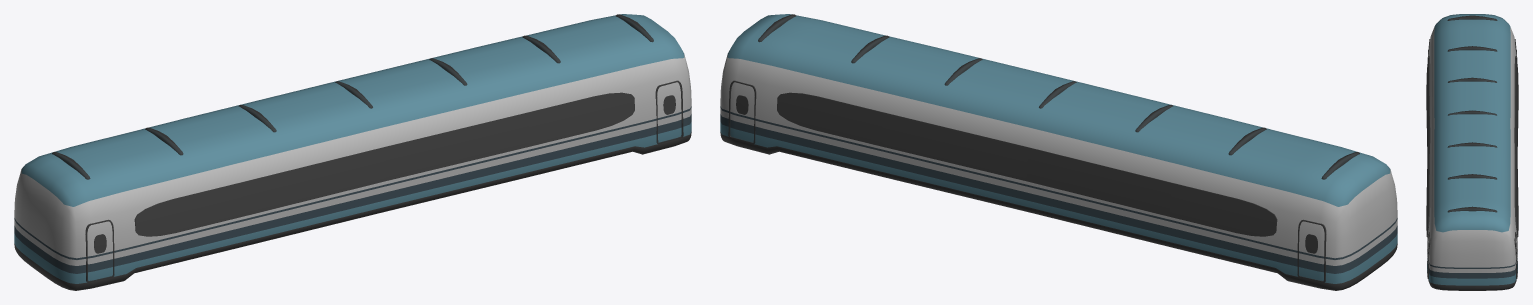
The model's file is high_speed__wagon.glb.
3 renders of one model, left to right at view 1: azimuth 30°, elevation 25°; view 2: azimuth 150°, elevation 25°; view 3: azimuth 270°, elevation 25°, orthographic. The views are drawn at different scales.
Parts seen in each view (by area): view 1: HighspeedTrain_Wagon; view 2: HighspeedTrain_Wagon; view 3: HighspeedTrain_Wagon.
Part boxes in pixels (x1,y1,x2,y2): HighspeedTrain_Wagon: (14,14,691,290); HighspeedTrain_Wagon: (720,14,1397,290); HighspeedTrain_Wagon: (1426,14,1518,290).
Size of the model in its own units: 11.18 by 1.9 by 2.03.
